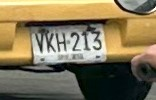number plate: (32, 23, 105, 63)
